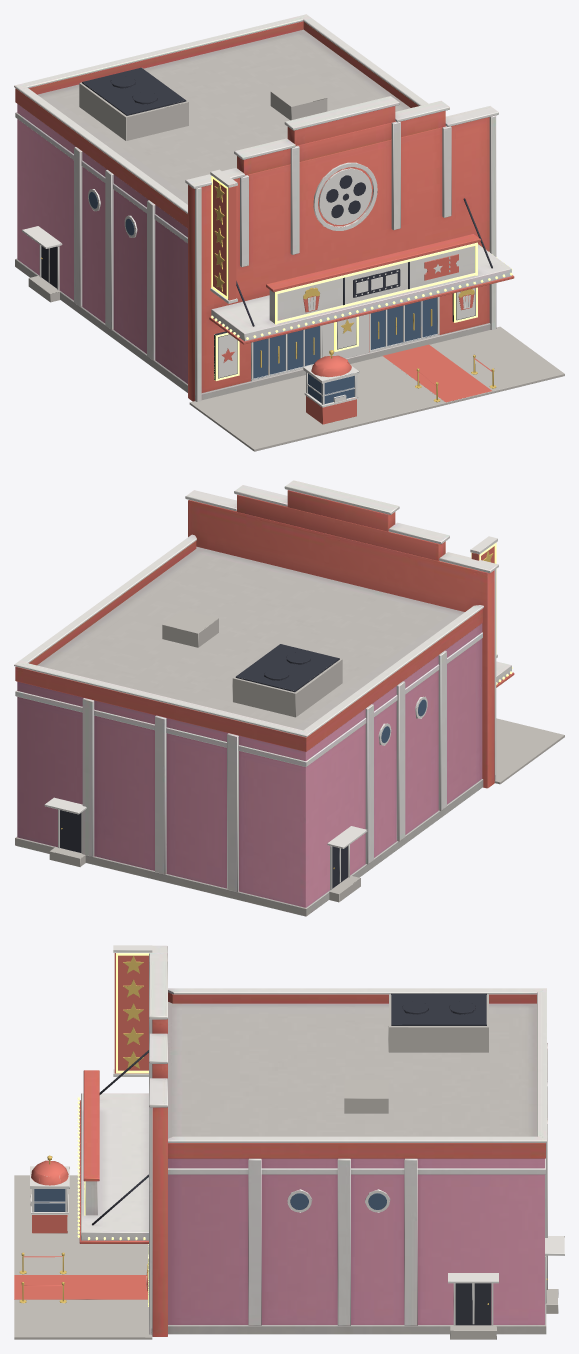
The model's file is cinema-light.glb.
The picture shows the model from 3 angles, top to bottom: view 1: azimuth 30°, elevation 25°; view 2: azimuth 150°, elevation 25°; view 3: azimuth 270°, elevation 25°; orthographic projection. The views are drawn at different scales.
Visible parts, largest first — view 1: cinema_body, cinema_details, cinema_emblems, cinema_lights; view 2: cinema_body, cinema_details; view 3: cinema_body, cinema_details, cinema_emblems, cinema_lights.
Part boxes in pixels (x1=…): cinema_body: x1=14, y1=14, x2=514, y2=401; cinema_details: x1=22, y1=67, x2=564, y2=451; cinema_emblems: x1=210, y1=162, x2=458, y2=312; cinema_lights: x1=211, y1=175, x2=512, y2=380; cinema_body: x1=14, y1=480, x2=514, y2=916; cinema_details: x1=44, y1=609, x2=564, y2=902; cinema_body: x1=79, y1=945, x2=547, y2=1336; cinema_details: x1=14, y1=993, x2=564, y2=1339; cinema_emblems: x1=84, y1=945, x2=152, y2=1189; cinema_lights: x1=77, y1=953, x2=149, y2=1306.
Bounding box in the file's own units: 17.8 × 13.36 × 24.71.
Materials: 12 (1 with a texture image).
